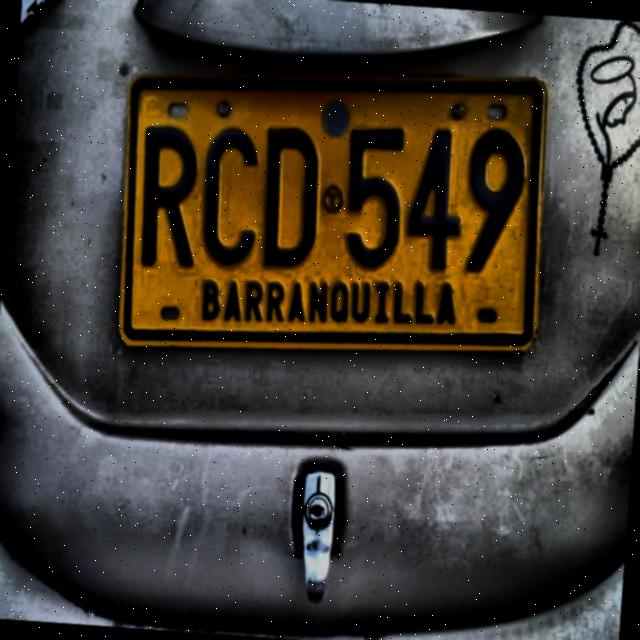plate: (128, 83, 539, 340)
